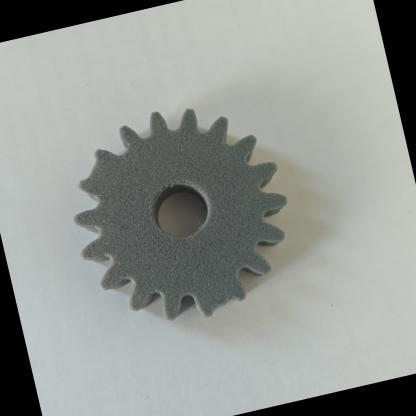defect: (48, 134, 142, 227), (176, 252, 268, 335)
gear: (26, 63, 340, 378)
